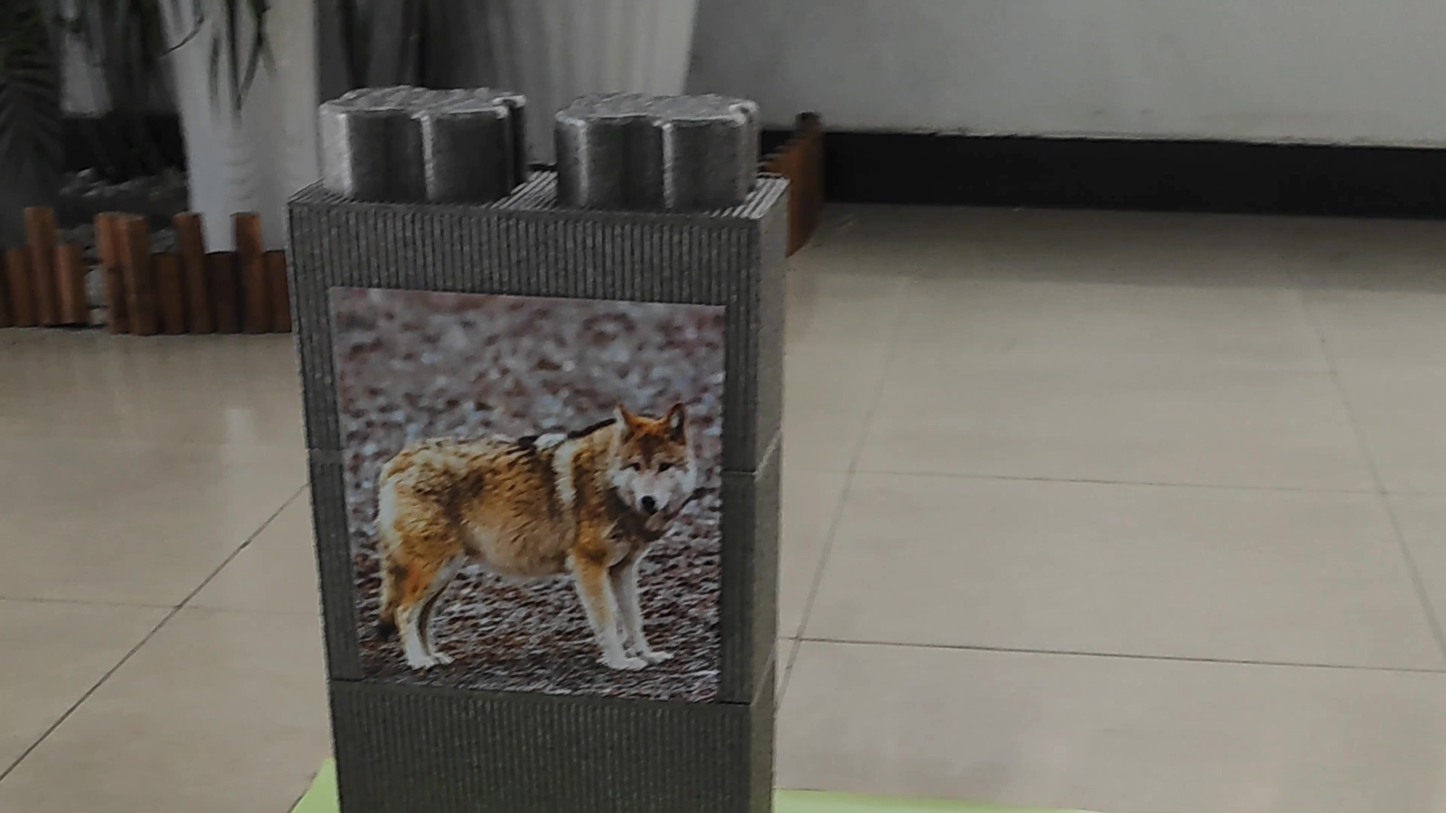wolf: (348, 309, 729, 697)
